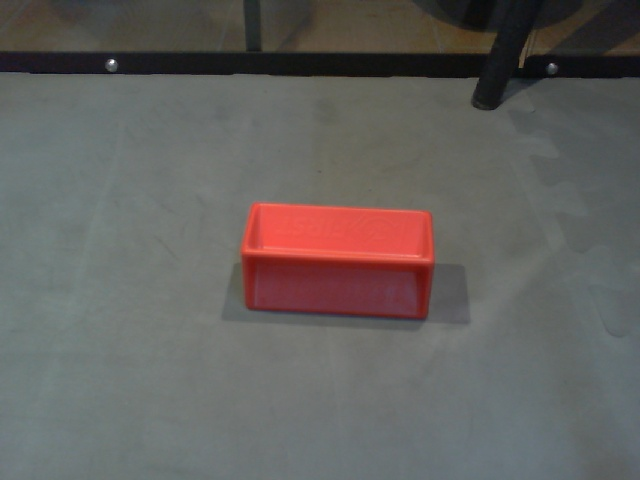RedSample: (240, 201, 437, 322)
